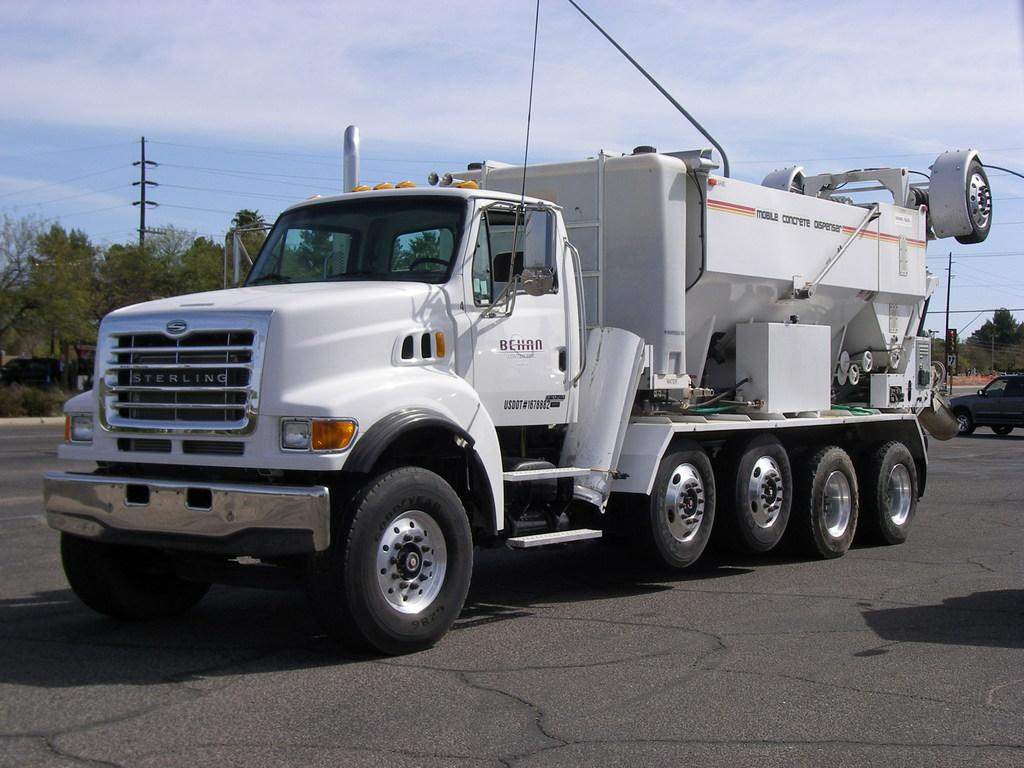Truck: (57, 132, 979, 642)
